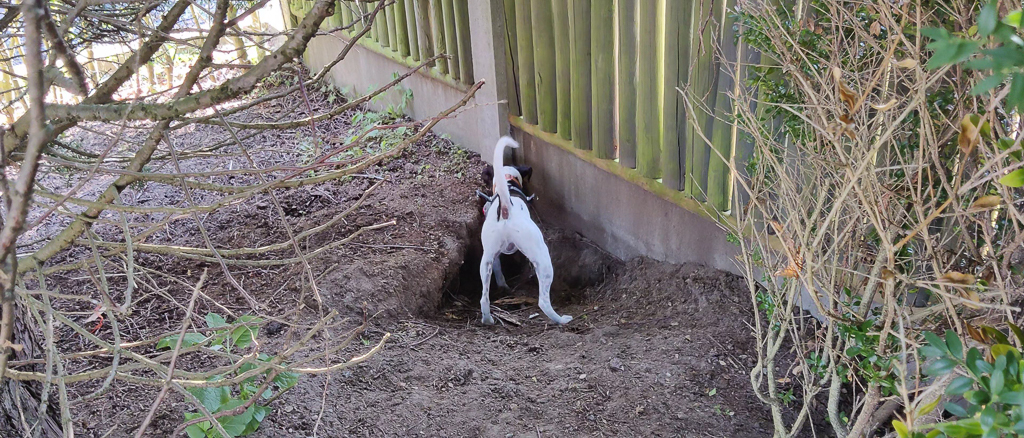Dog: (448, 125, 581, 338)
